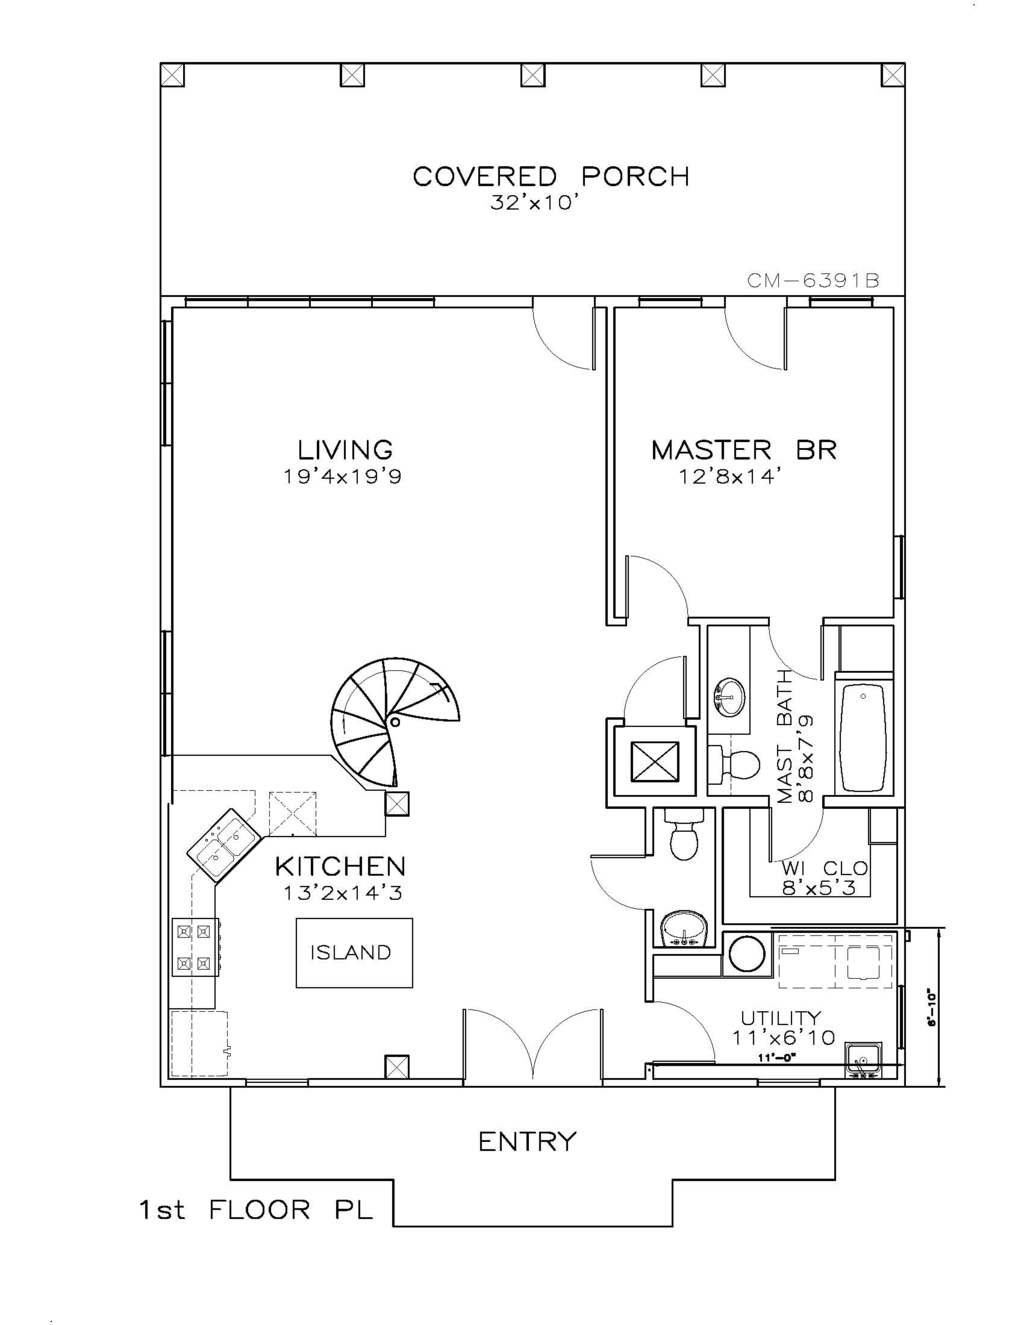coffee_table: (625, 738, 686, 788)
door: (455, 1005, 610, 1084), (727, 293, 799, 381), (525, 290, 601, 373), (615, 552, 694, 626), (649, 995, 720, 1075), (615, 650, 694, 722), (769, 800, 833, 861), (589, 847, 652, 908), (769, 621, 827, 683)
large_sink: (659, 807, 713, 871), (707, 735, 766, 786)
small_sink: (700, 626, 751, 736), (656, 904, 719, 956)
stairs: (322, 649, 466, 795)
tub: (838, 674, 896, 801)
twin_sink: (179, 807, 259, 883)
windows: (155, 308, 184, 452), (155, 626, 182, 760)
